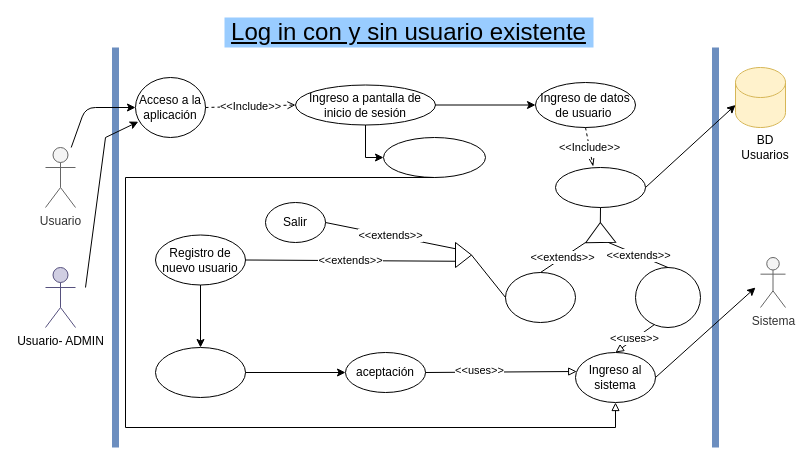
Image size: 812x469. Some labels were removed from this diagram. Each missing label, with the box of its shape:
llenado del formulario: (154, 346, 246, 398)
Sesión previamente iniciada: (382, 136, 486, 178)
Usuario existente: (634, 266, 700, 328)
Usuario no existente: (504, 272, 576, 322)
Validación: (554, 166, 646, 208)
